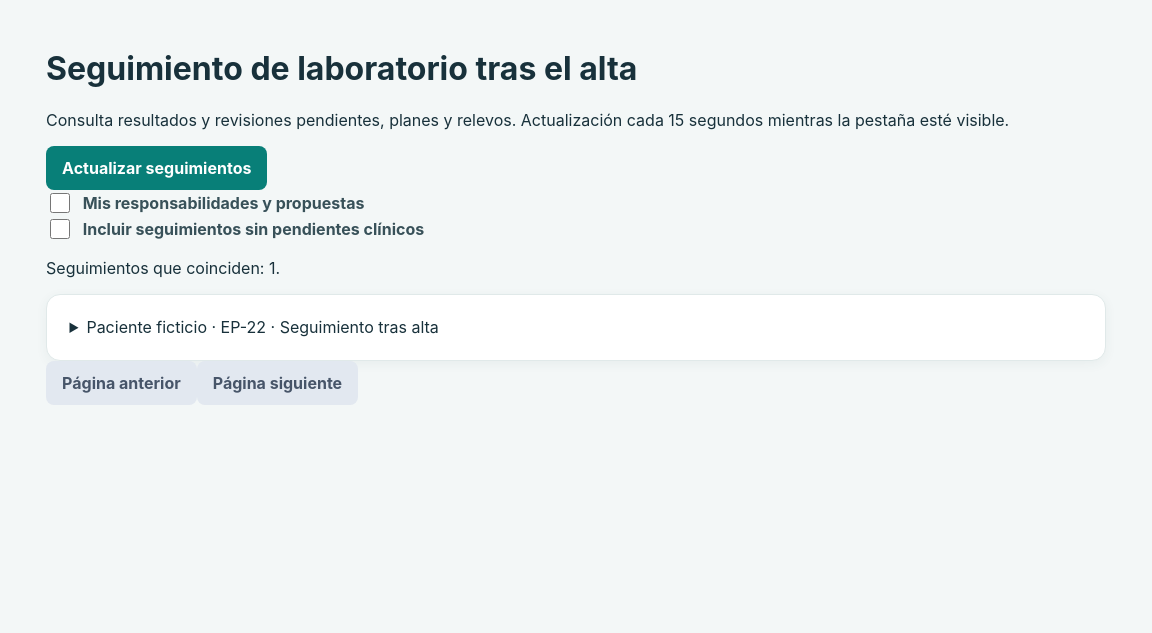
Test case: un conflicto consulta la versión actual y conserva los campos para revisión
Click the heading "Paciente ficticio · EP-22 · Seguimiento tras alta": [263, 327] box [86,317,439,337]
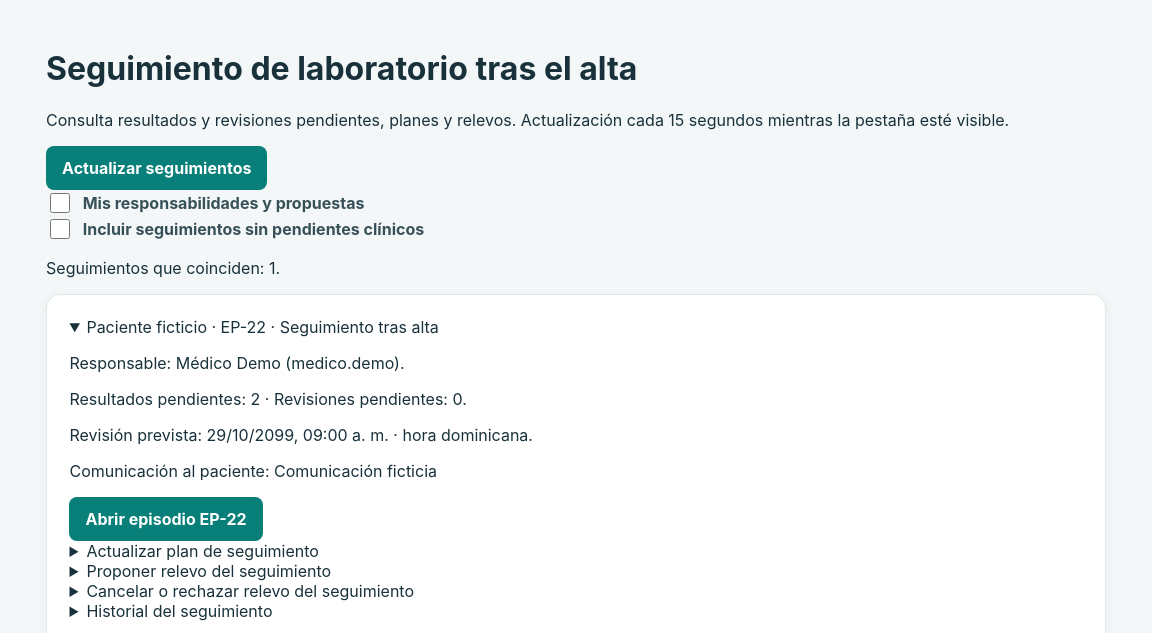
Click the heading "Proponer relevo del seguimiento": [209, 571] box [86,561,331,581]
(page scrolled)
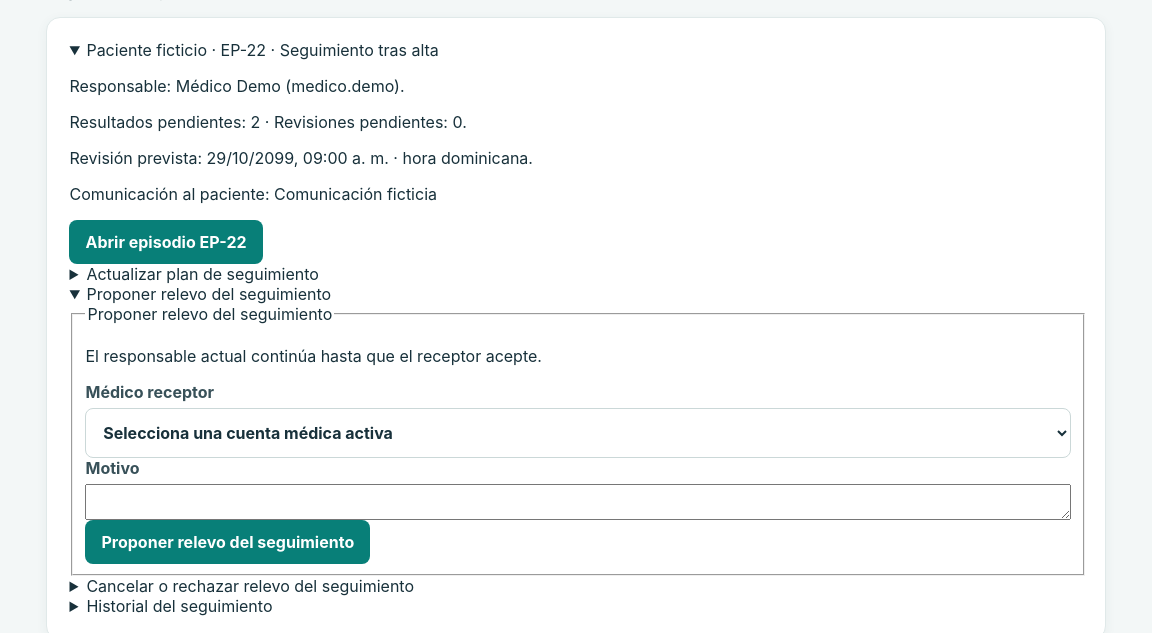
In the text box labelled "Motivo": [578, 502] box [86,484,1071,520], type "Relevo ficticio de seguimiento"
(page scrolled)
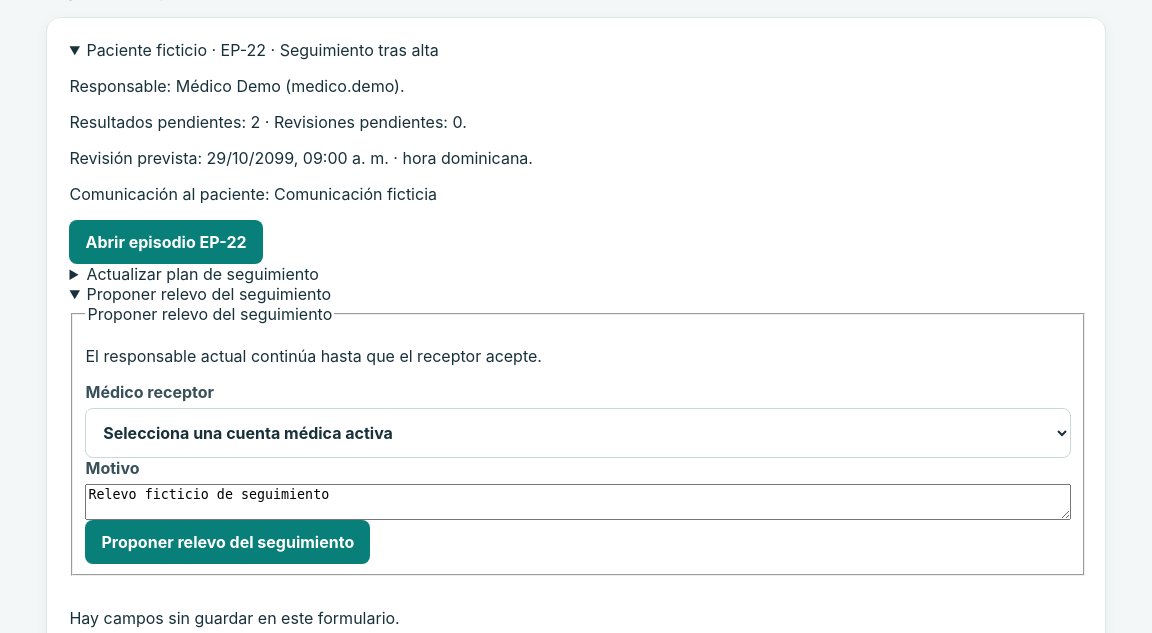
Select "Médico Relevo (medico.relevo)" in the dropdown labelled "Médico receptor": [578, 433] box [86,408,1071,458]
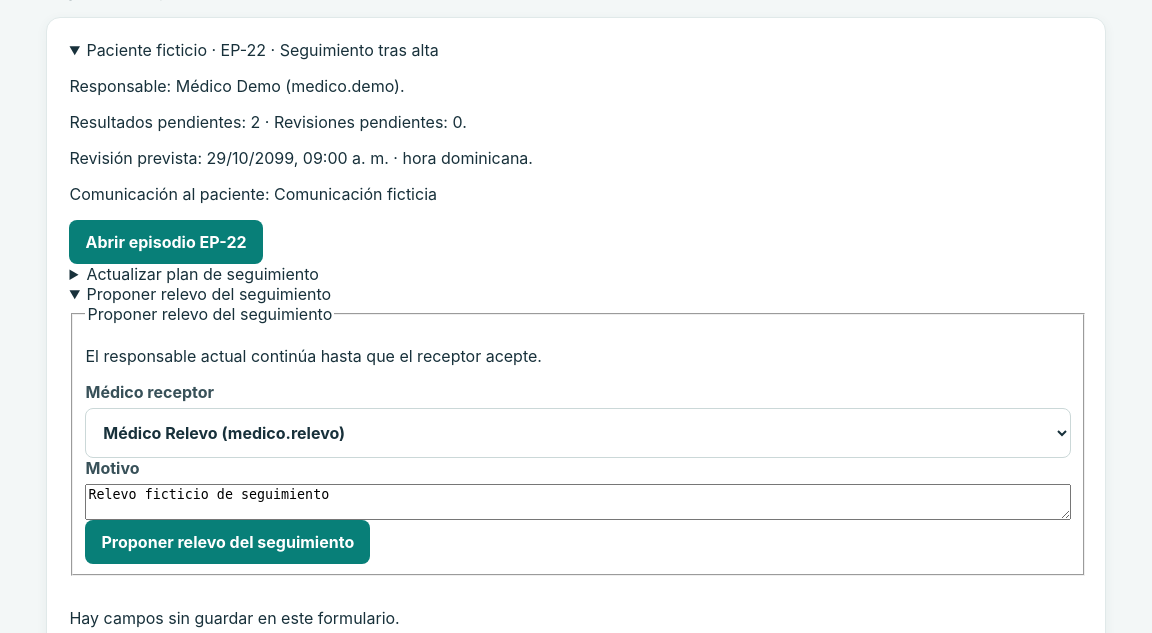
Click the button "Proponer relevo del seguimiento": [228, 542] box [86,520,370,564]
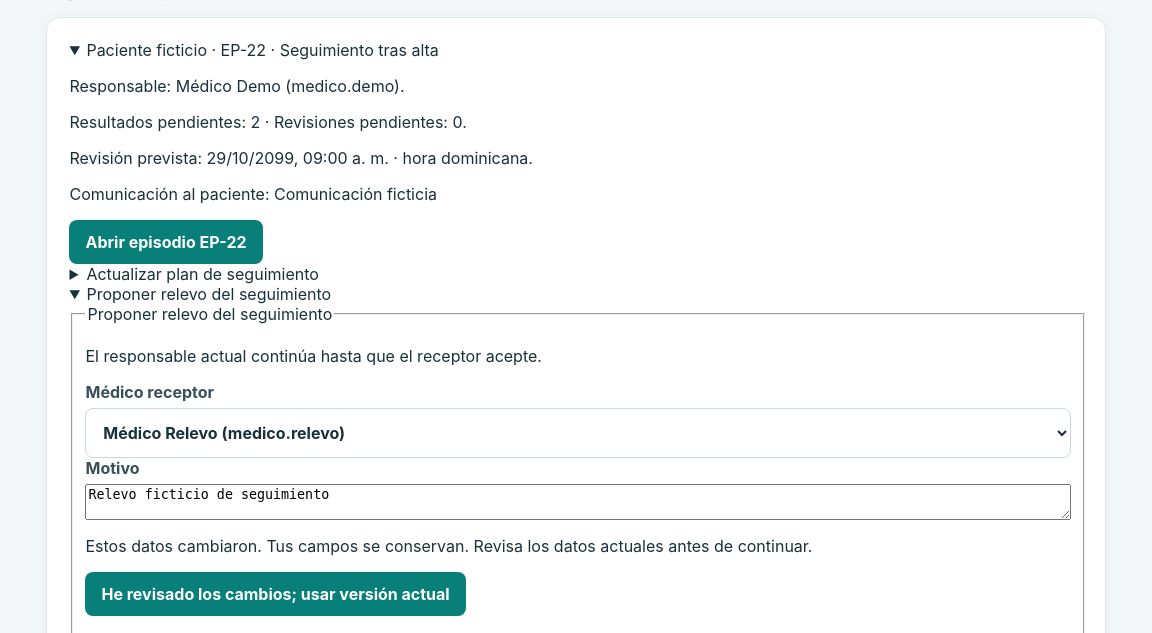
Expected: the button "He revisado los cambios; usar versión actual" is shown, [86,572,466,616]
